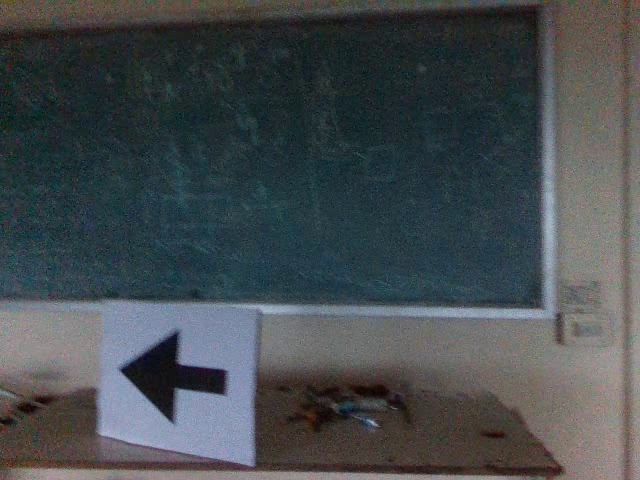Left: (115, 320, 234, 430)
